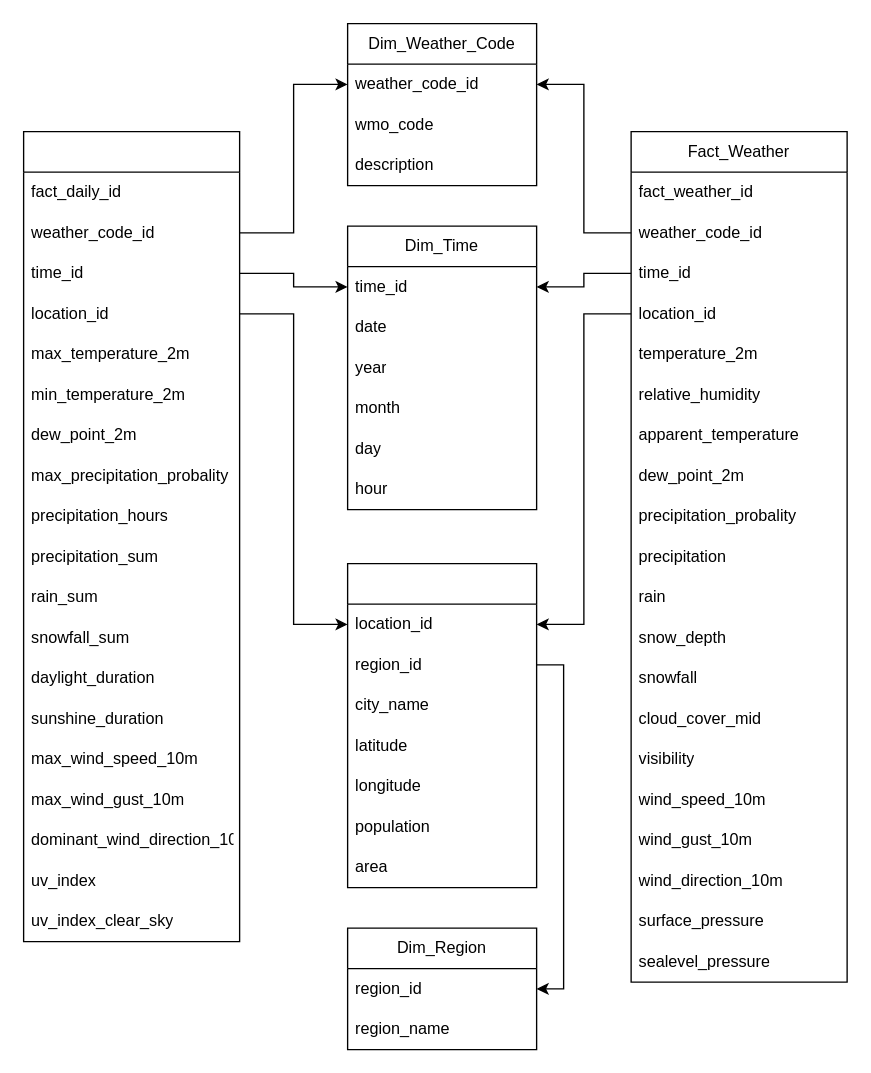
The diagram is 871 pixels wide and 1073 high, and some of its shapes have lost their labels. The shapes that lost their labels are listed below. From the top down, each one's box as (x1, y1, x2, y2) in pixels, then its label:
(22, 130, 240, 942): Fact_Daily_Summary
(346, 562, 537, 888): Dim_Location
